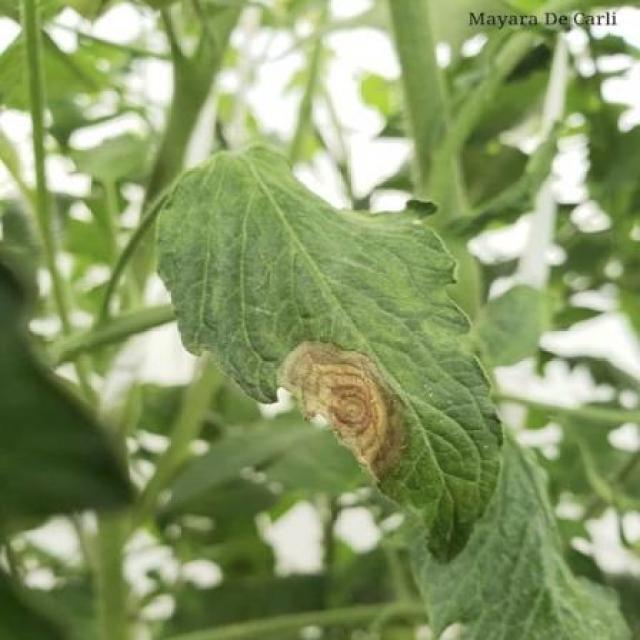Early Blight: (156, 141, 506, 570)
